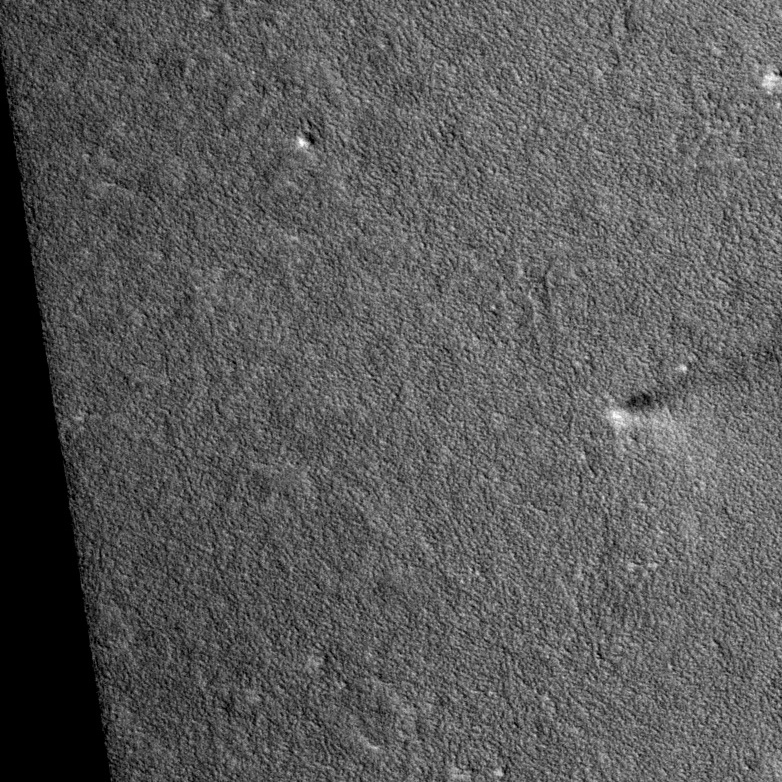dust_devil: (605, 345, 753, 442)
